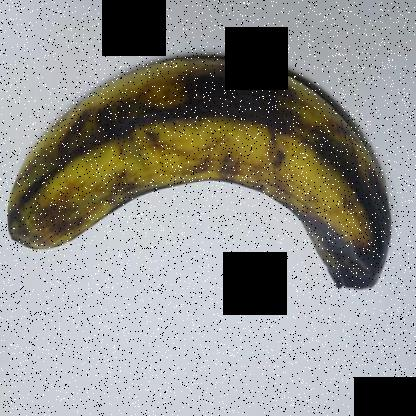overripe: (0, 36, 399, 315)
